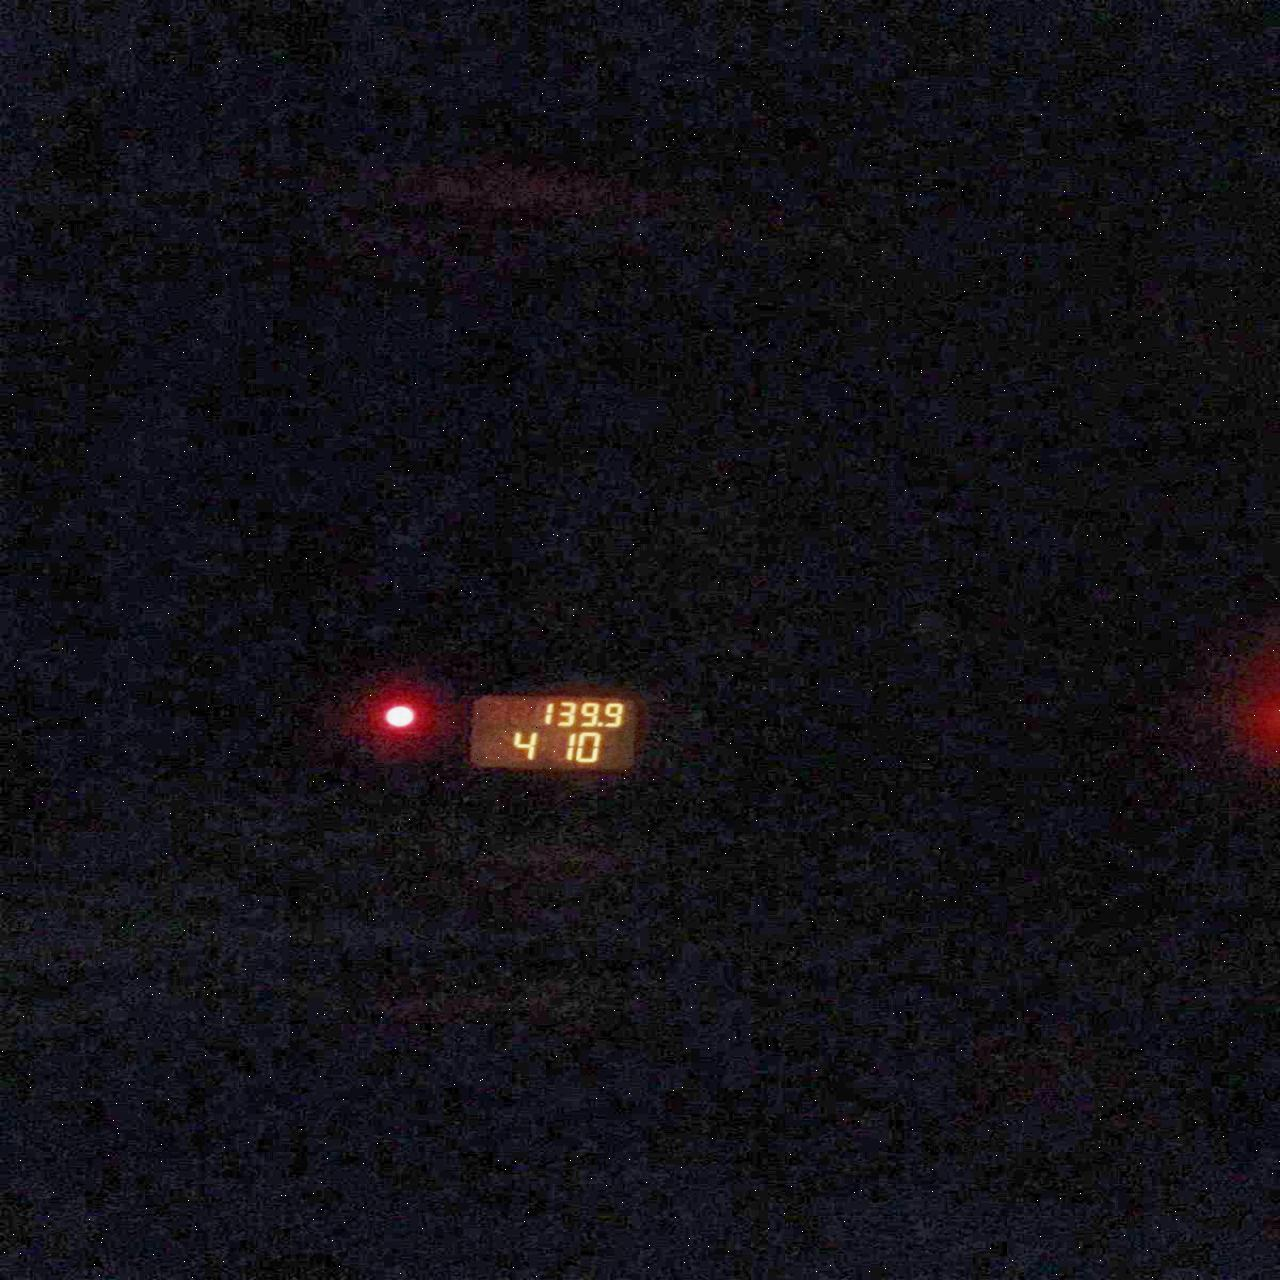-: (597, 721, 602, 727)
0: (573, 731, 600, 763)
1: (565, 731, 574, 761), (543, 702, 552, 724)
3: (556, 701, 577, 726)
4: (512, 731, 537, 760)
9: (579, 701, 599, 727), (602, 702, 622, 727)
odometer: (468, 693, 639, 772)
